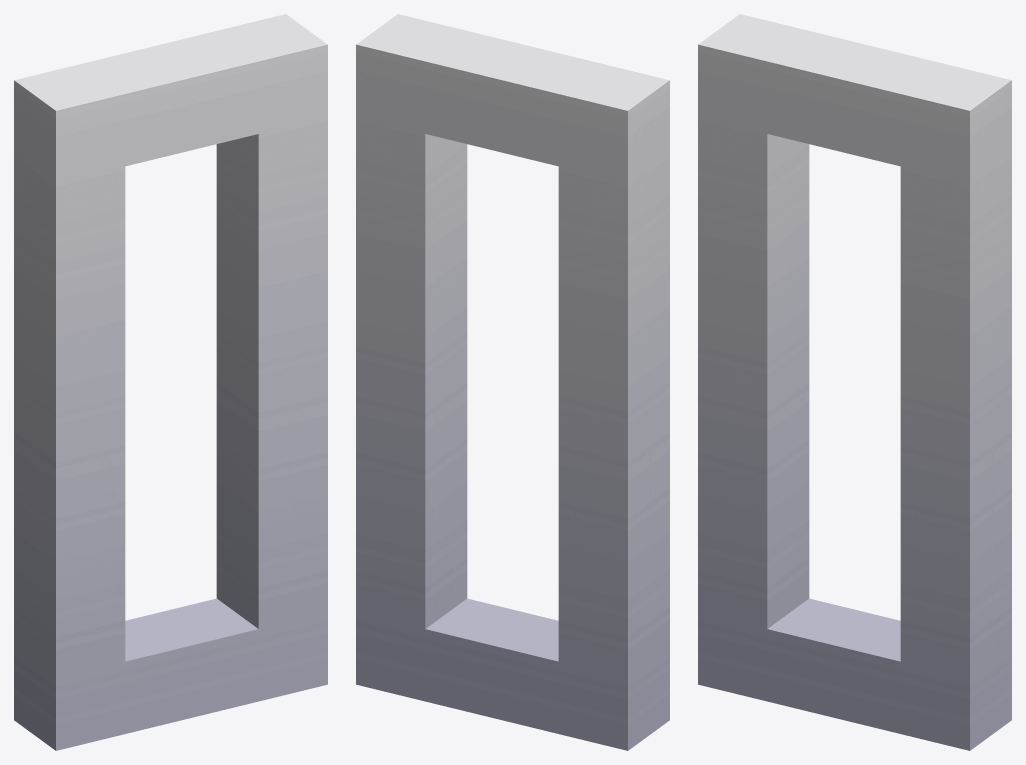
File: window_white_narrow.glb
3 views of the same model, side by side, from view 1: azimuth 30°, elevation 25°; view 2: azimuth 150°, elevation 25°; view 3: azimuth 330°, elevation 25° (orthographic).
Visible parts, largest first — view 1: window-white-narrow; view 2: window-white-narrow; view 3: window-white-narrow.
Part boxes in pixels (<box>): window-white-narrow: <box>14,14,327,750</box>; window-white-narrow: <box>356,14,669,750</box>; window-white-narrow: <box>698,14,1011,750</box>.
Size of the model in its own units: 0.1875 by 0.4219 by 0.05.
1 material, 1 textured.
